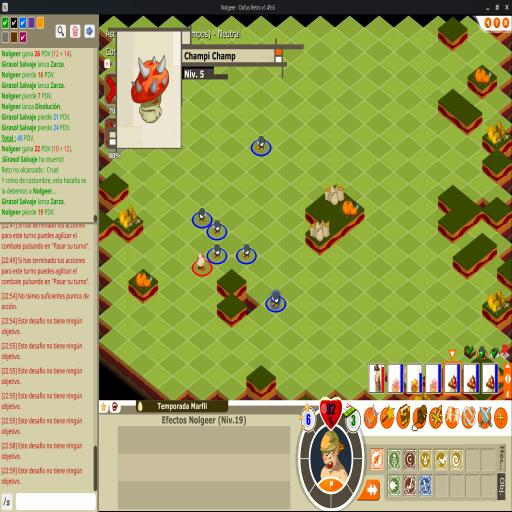Enemigos: (256, 135, 266, 152), (212, 219, 221, 237), (212, 243, 221, 261), (242, 243, 251, 261), (271, 291, 280, 309), (198, 208, 208, 224)
Personaje: (196, 252, 206, 272)
